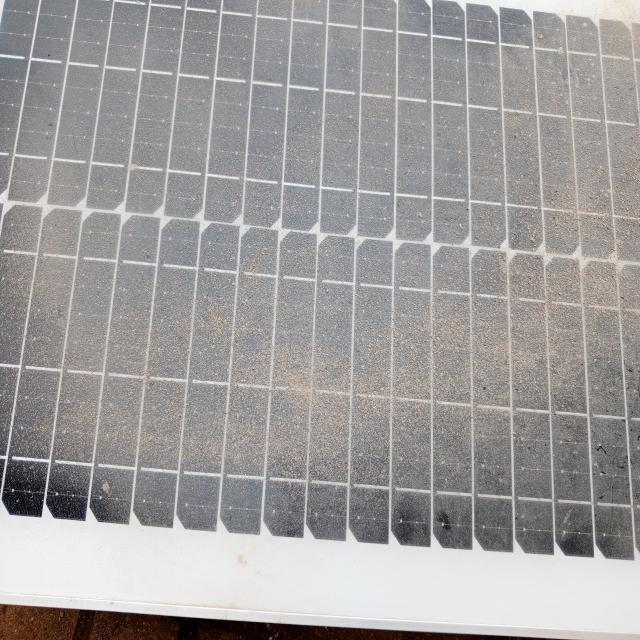Anomaly Solar Panel: (2, 5, 640, 578)
Surface Contaminant: (9, 12, 639, 573)
